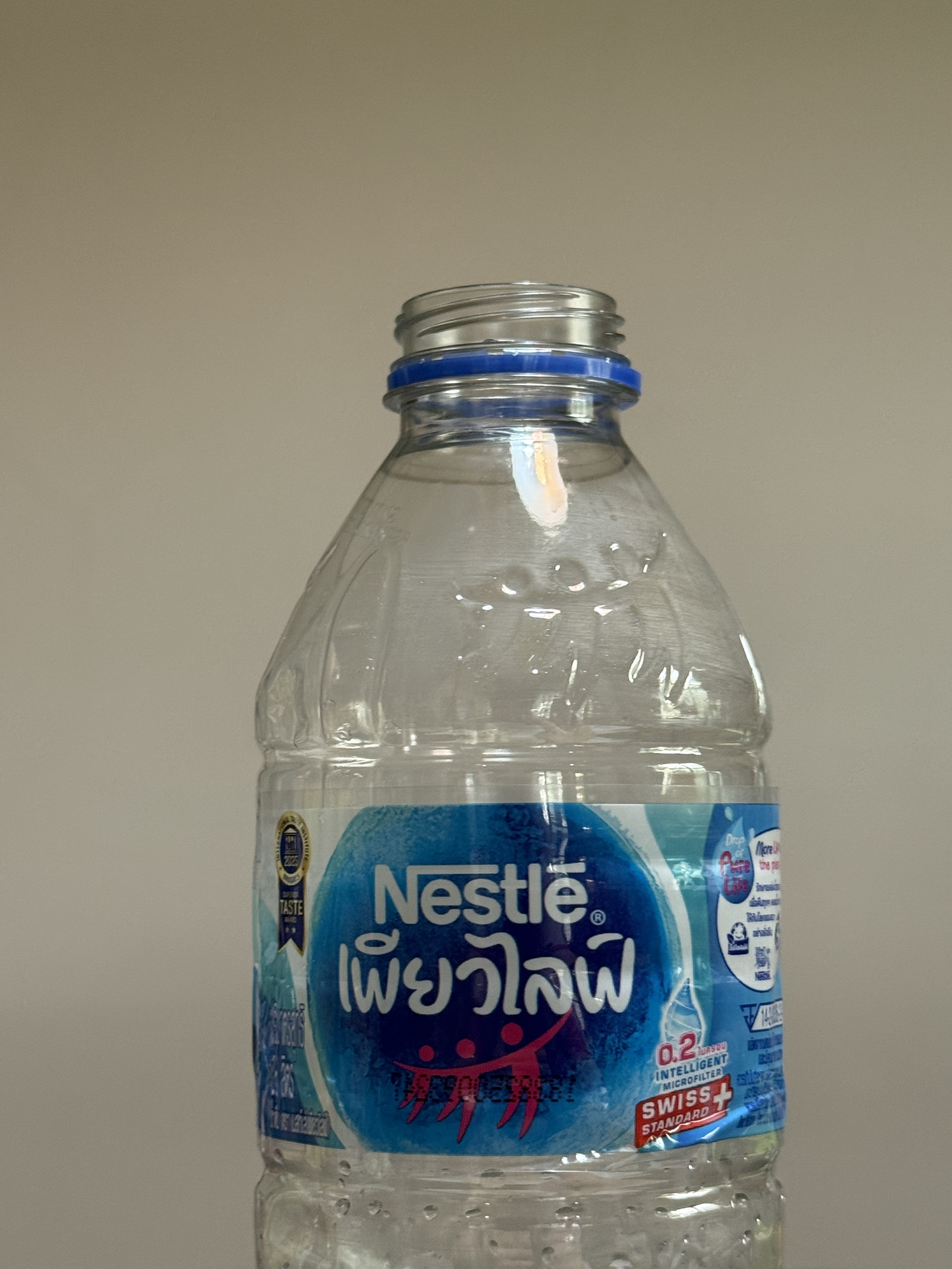no_cap: (383, 275, 644, 400)
